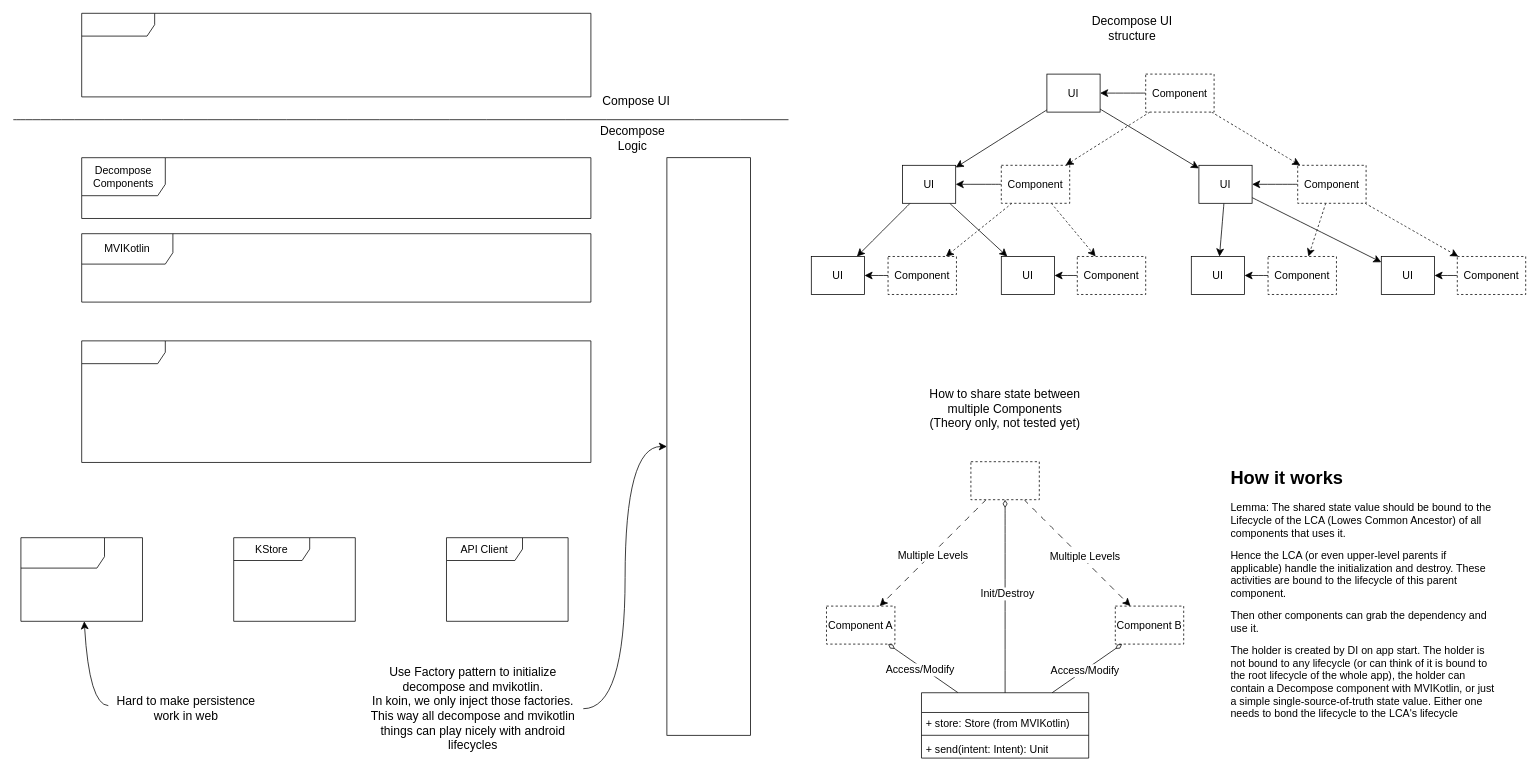
The diagram is 1539 pixels wide and 774 high, and some of its shapes have lost their labels. The box of each missing label's shape, as (x1, y1, x2, y2) in pixels:
A Shared Component Holder: (921, 692, 1089, 758)
Compose: (81, 13, 591, 97)
DB (SQLDelight): (20, 537, 142, 621)
Koin: (666, 157, 750, 735)
LCA Component: (970, 461, 1039, 500)
Services: (81, 340, 591, 462)
